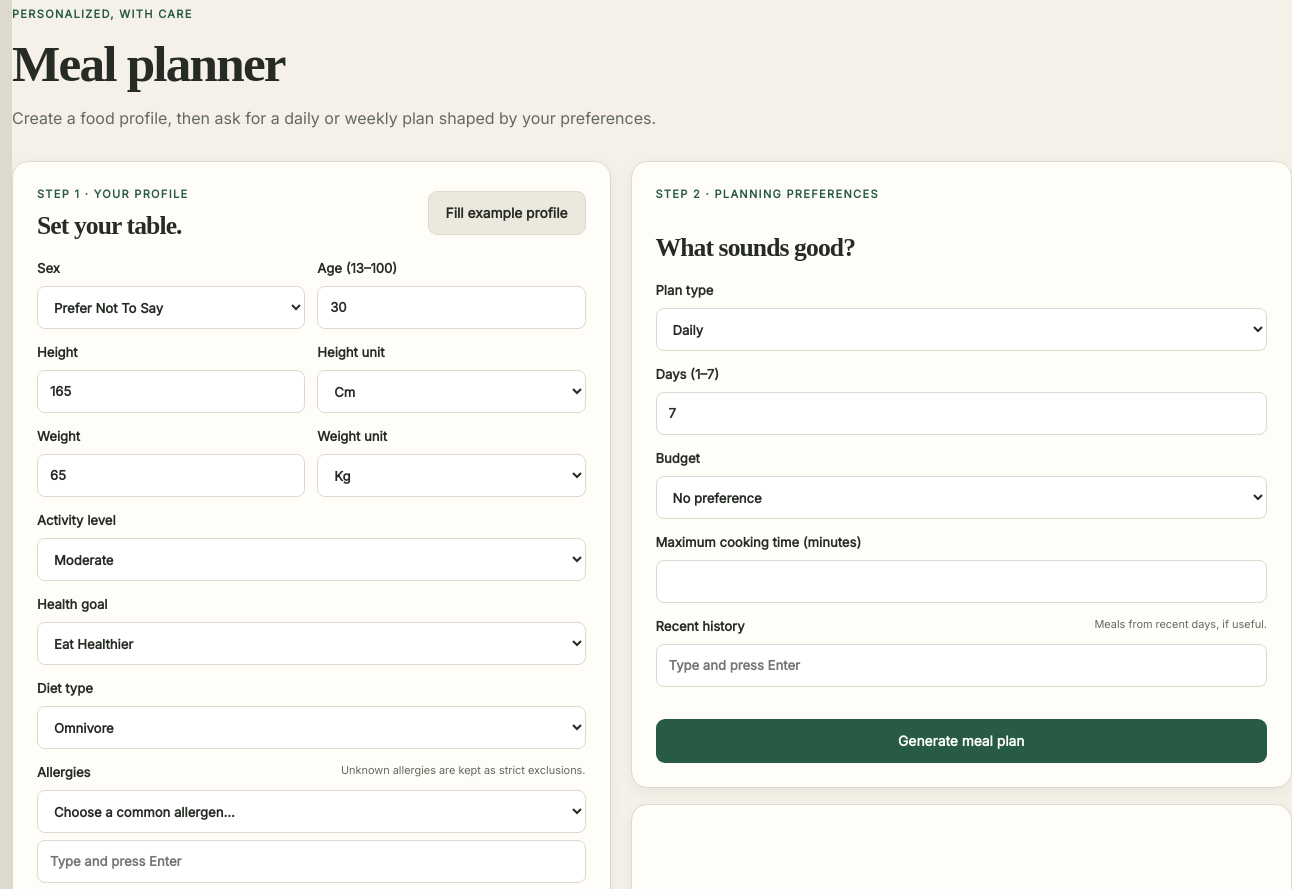
Test: MealPlanner safety states › explains expired profile after a 404
The width and height of the screenshot is (1292, 889).
Expected: the heading "Set your table." is shown, [37, 211, 188, 240]
Click the button "Generate meal plan": click(961, 741) [656, 719, 1267, 763]
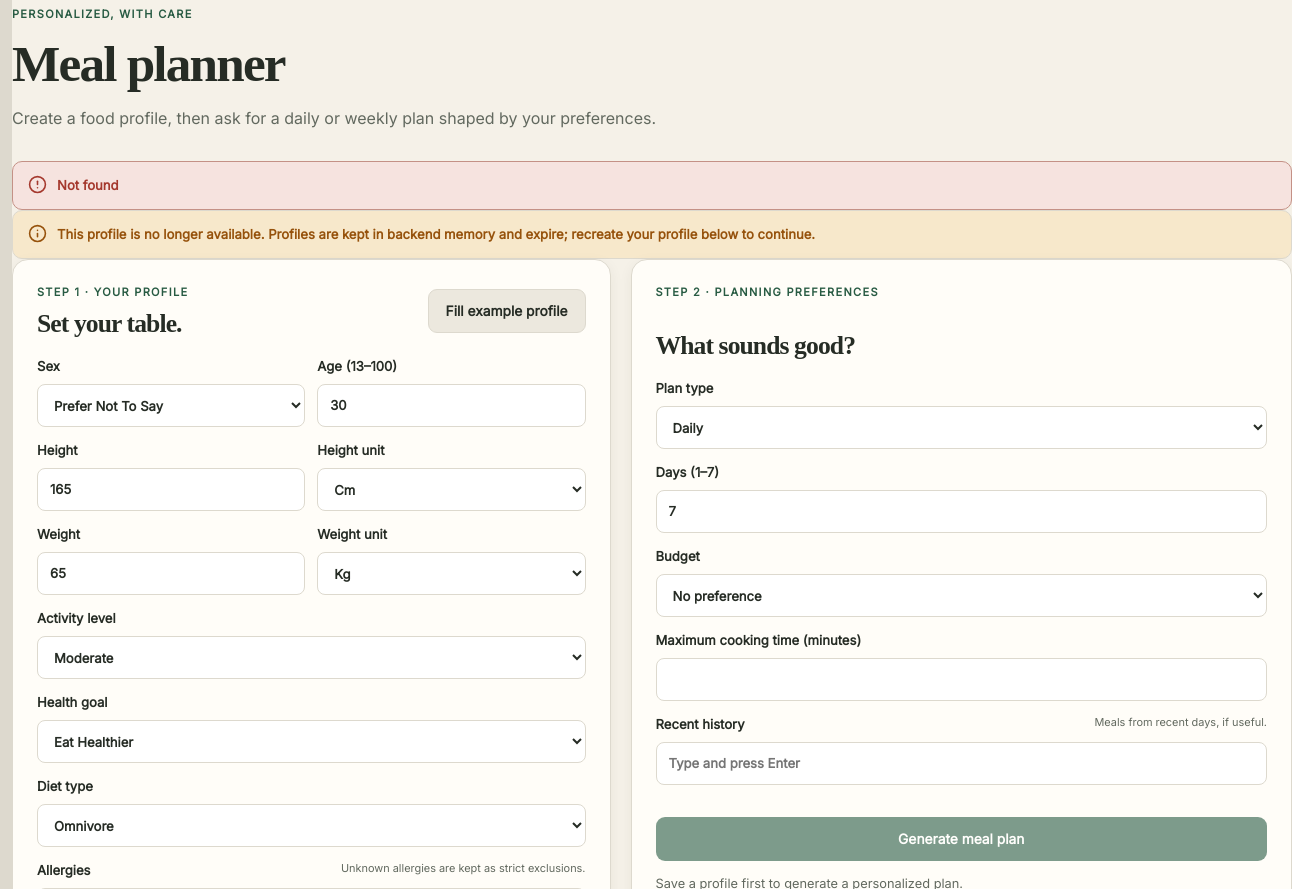
Result: the text "Profiles are kept in backend memory and expire" is shown at [57, 226, 815, 242]
